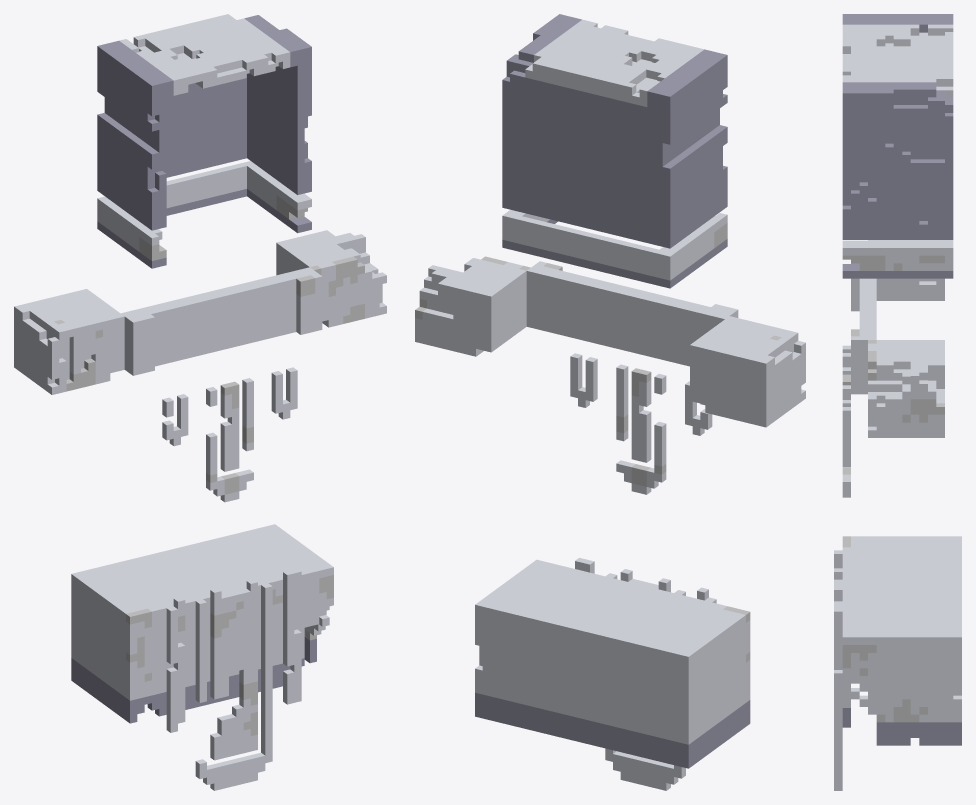
File: Anubis_50-5.obj
The picture shows the model from 3 angles, left to right: view 1: azimuth 30°, elevation 25°; view 2: azimuth 150°, elevation 25°; view 3: azimuth 270°, elevation 25°; orthographic projection. The views are drawn at different scales.
Bounding box in the file's own units: 4.6 × 9.4 × 1.5.
Materials: 1 (1 with a texture image).
